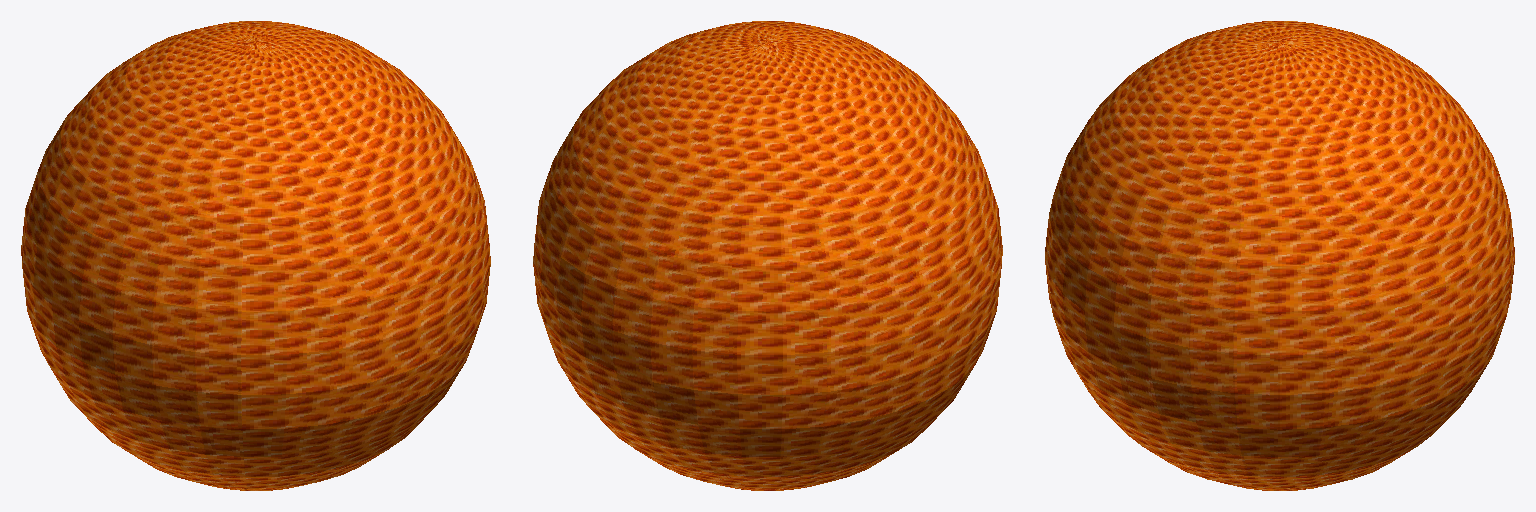
3 renders of one model, left to right at view 1: azimuth 30°, elevation 25°; view 2: azimuth 150°, elevation 25°; view 3: azimuth 270°, elevation 25°, orthographic.
Parts seen in each view (by area): view 1: Sphere; view 2: Sphere; view 3: Sphere.
Boxes of the visible parts, <box> form: Sphere: <box>21,21,490,490</box>; Sphere: <box>533,21,1002,490</box>; Sphere: <box>1045,21,1514,490</box>.
Bounding box in the file's own units: 0.4 × 0.4 × 0.4.
Materials: 1 (1 with a texture image).